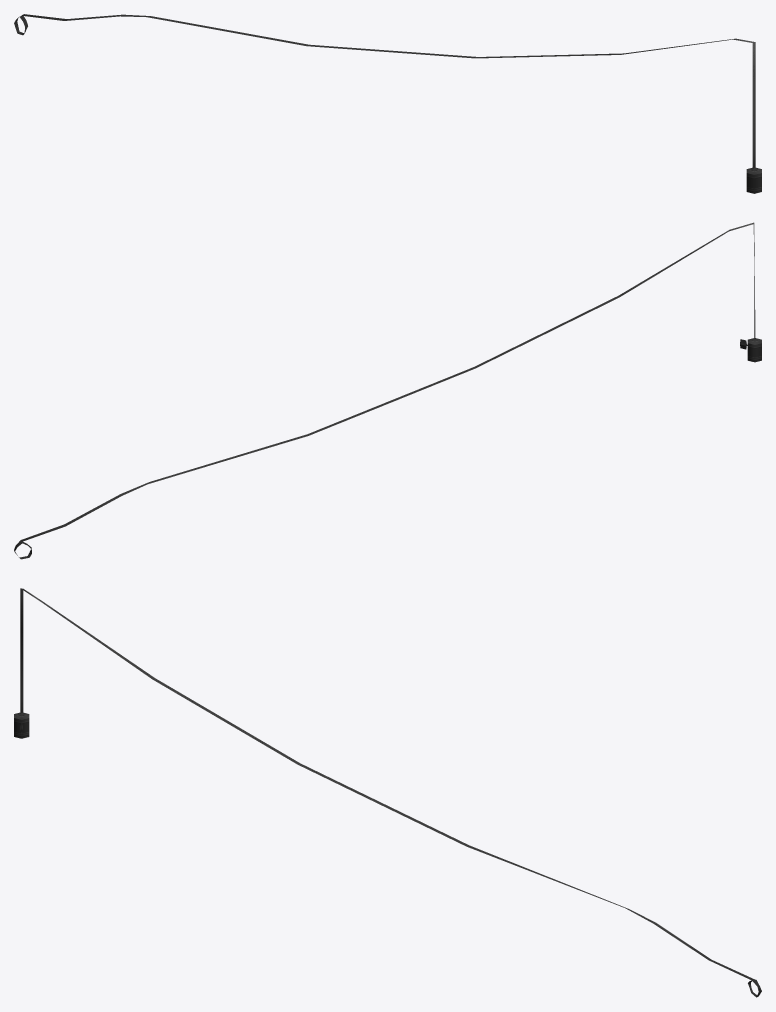
File: jsf_2P_Light_s01_a.fbx
The picture shows the model from 3 angles, top to bottom: view 1: azimuth 90°, elevation 25°; view 2: azimuth 150°, elevation 25°; view 3: azimuth 270°, elevation 25°; orthographic projection. The views are drawn at different scales.
Parts seen in each view (by area): view 1: jsf_2P_Light_s01_a; view 2: jsf_2P_Light_s01_a; view 3: jsf_2P_Light_s01_a.
Boxes of the visible parts, x1,y1,x2,y2 form: jsf_2P_Light_s01_a: [14, 14, 761, 193]; jsf_2P_Light_s01_a: [14, 222, 761, 559]; jsf_2P_Light_s01_a: [14, 588, 761, 997].
Size of the model in its own units: 94.97 by 40.88 by 139.
